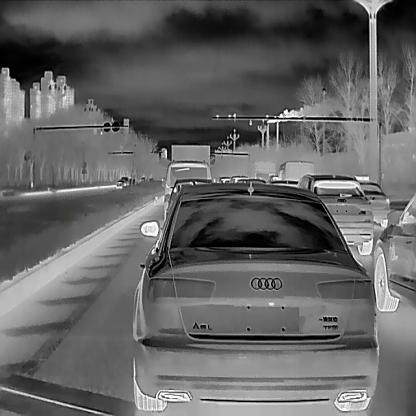car: (131, 183, 379, 411), (294, 173, 373, 254), (373, 194, 415, 311), (164, 160, 212, 220), (352, 172, 388, 228), (279, 159, 313, 195)
truck: (249, 158, 276, 192)
